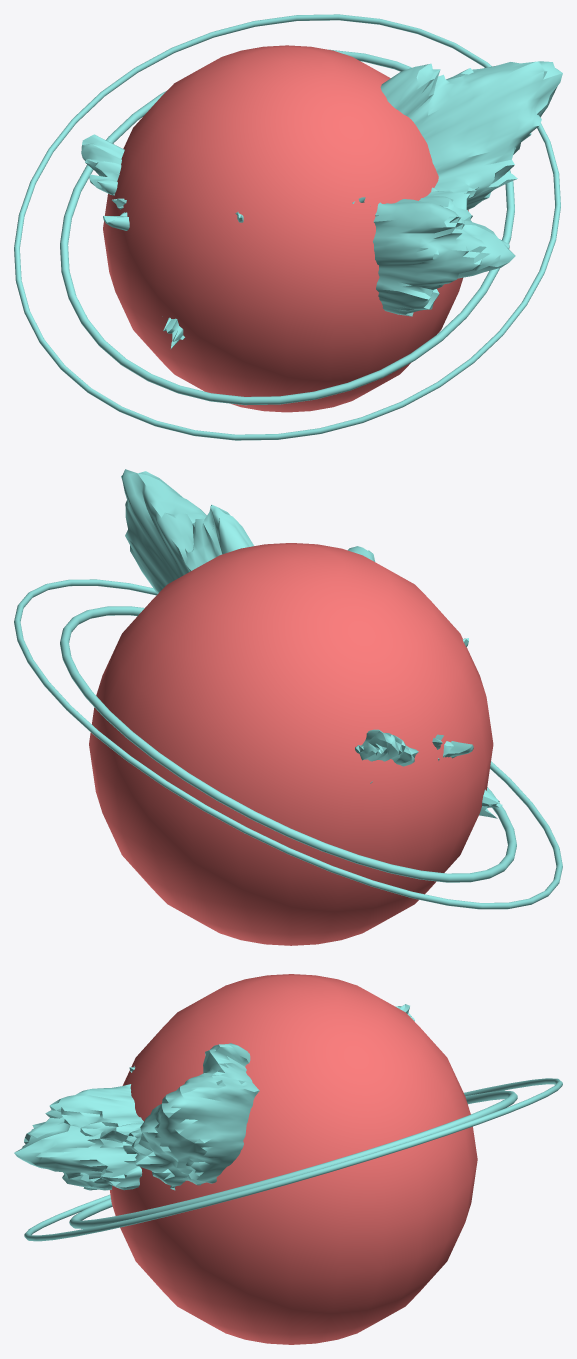
The model's file is mundo7.obj.
The picture shows the model from 3 angles, top to bottom: view 1: azimuth 30°, elevation 25°; view 2: azimuth 150°, elevation 25°; view 3: azimuth 270°, elevation 25°; orthographic projection. The views are drawn at different scales.
Visible parts, largest first — view 1: Torus.1; view 2: Torus.1; view 3: Torus.1.
Boxes of the visible parts, x1=… form: Torus.1: x1=14, y1=14, x2=562, y2=440; Torus.1: x1=14, y1=469, x2=562, y2=945; Torus.1: x1=14, y1=974, x2=562, y2=1344.
Size of the model in its own units: 107 by 75.72 by 112.
